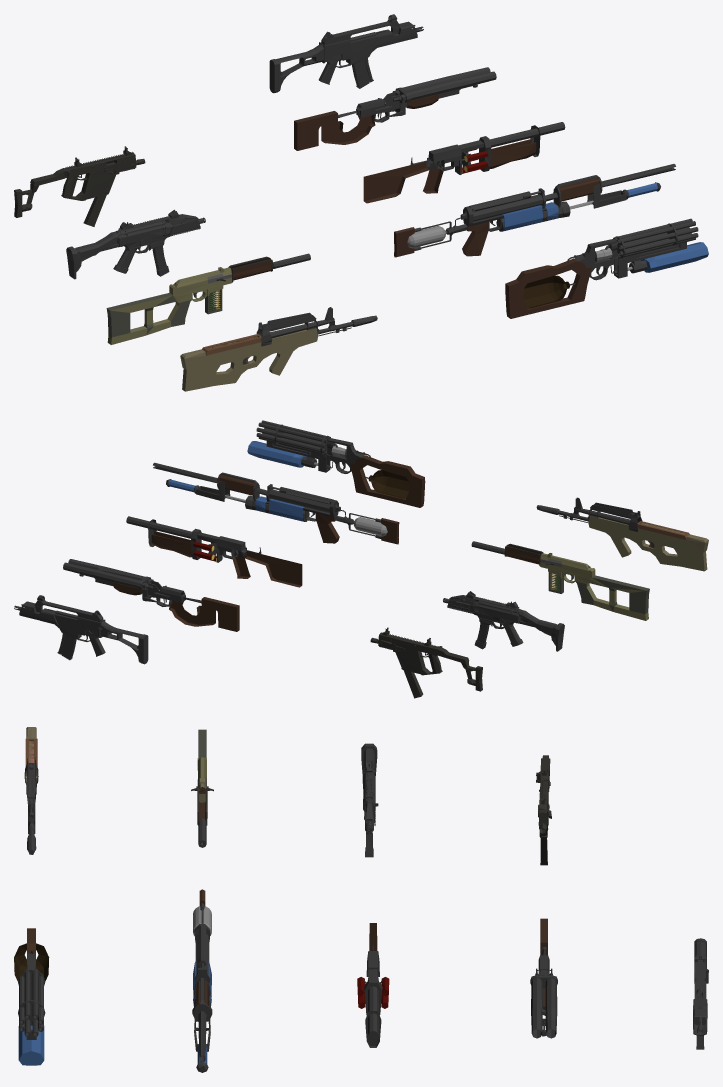
Rendered from gunsv2.fbx.
3 views of the same model, one above another, from view 1: azimuth 30°, elevation 25°; view 2: azimuth 150°, elevation 25°; view 3: azimuth 270°, elevation 25° (orthographic). The views are drawn at different scales.
Visible parts, largest first — view 1: Helsing, Tikhar, Kalash, Shambler, VSV, Shotgun, G36, Scorpion, Vector; view 2: Helsing, Tikhar, Kalash, Shambler, VSV, Shotgun, G36, Scorpion, Vector; view 3: Helsing, Tikhar, Shotgun, Shambler, G36, Scorpion, Kalash, VSV, Vector.
Part boxes in pixels (bbox=[...]): Helsing: bbox=[505, 218, 708, 318]; Tikhar: bbox=[394, 164, 675, 257]; Kalash: bbox=[180, 307, 377, 391]; Shambler: bbox=[363, 122, 565, 203]; VSV: bbox=[106, 253, 310, 344]; Shotgun: bbox=[294, 67, 496, 150]; G36: bbox=[269, 14, 423, 93]; Scorpion: bbox=[66, 209, 205, 279]; Vector: bbox=[14, 146, 145, 226]; Helsing: bbox=[247, 420, 425, 507]; Tikhar: bbox=[153, 462, 399, 544]; Kalash: bbox=[536, 497, 708, 571]; Shambler: bbox=[126, 516, 302, 587]; VSV: bbox=[471, 541, 649, 620]; Shotgun: bbox=[63, 559, 239, 631]; G36: bbox=[14, 595, 148, 664]; Scorpion: bbox=[443, 591, 564, 651]; Vector: bbox=[370, 627, 482, 698]; Helsing: bbox=[14, 928, 49, 1065]; Tikhar: bbox=[192, 889, 212, 1072]; Shotgun: bbox=[530, 918, 557, 1038]; Shambler: bbox=[357, 923, 389, 1047]; G36: bbox=[693, 938, 708, 1049]; Scorpion: bbox=[361, 743, 378, 857]; Kalash: bbox=[24, 727, 38, 854]; VSV: bbox=[191, 729, 213, 847]; Vector: bbox=[536, 755, 551, 865].
Size of the model in its own units: 835 by 106 by 733.
